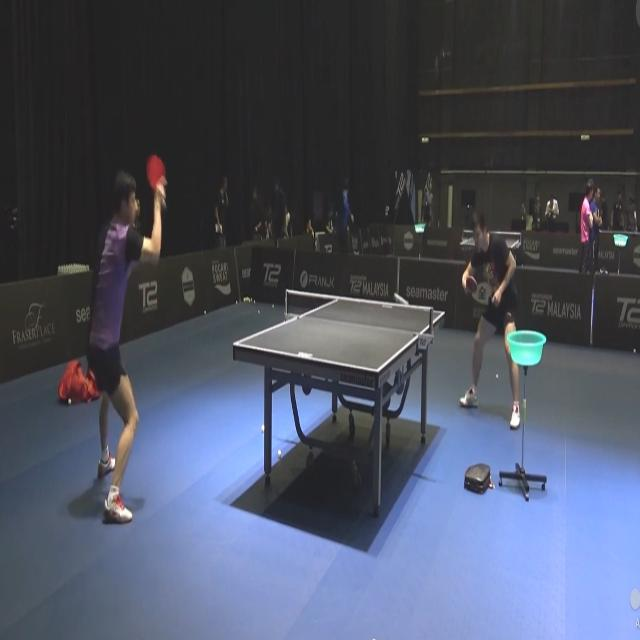TT Net: (279, 281, 441, 345), (461, 229, 522, 245)
TT Racket: (146, 154, 167, 209), (462, 276, 478, 300)
TT Table: (233, 270, 446, 386)
